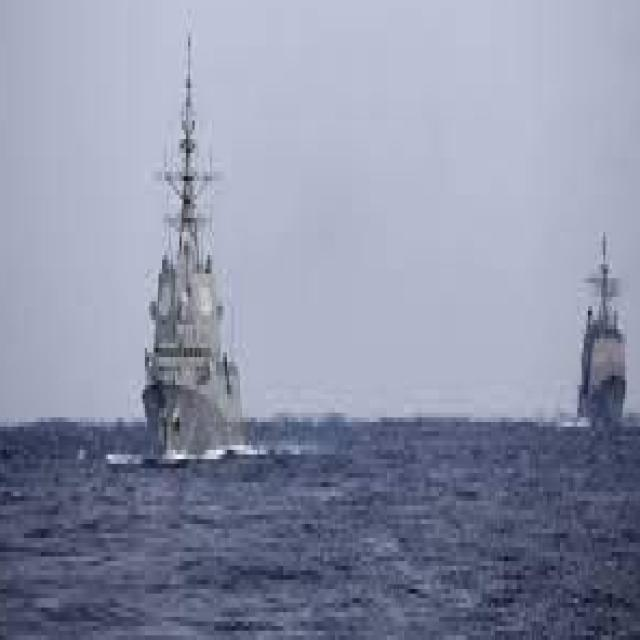navalvessels: (131, 41, 256, 453), (574, 237, 636, 415)
